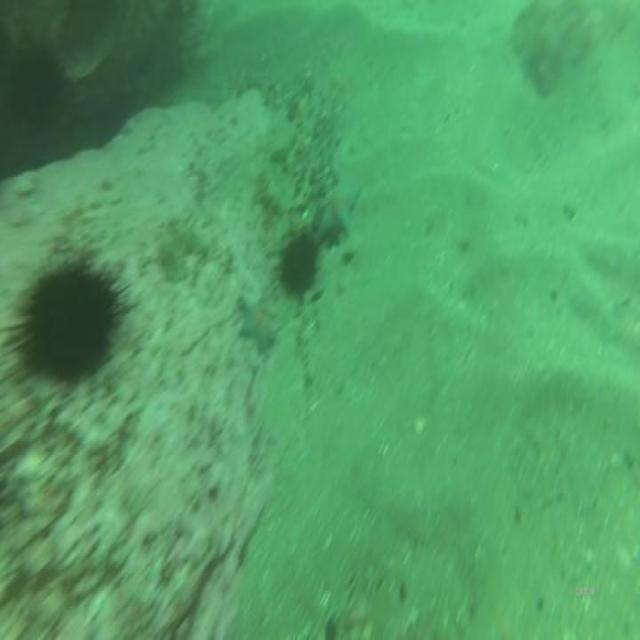echinus: (17, 253, 123, 389), (275, 228, 321, 304)
holothurian: (158, 210, 198, 283)
starfish: (237, 289, 286, 362), (313, 186, 363, 244)
